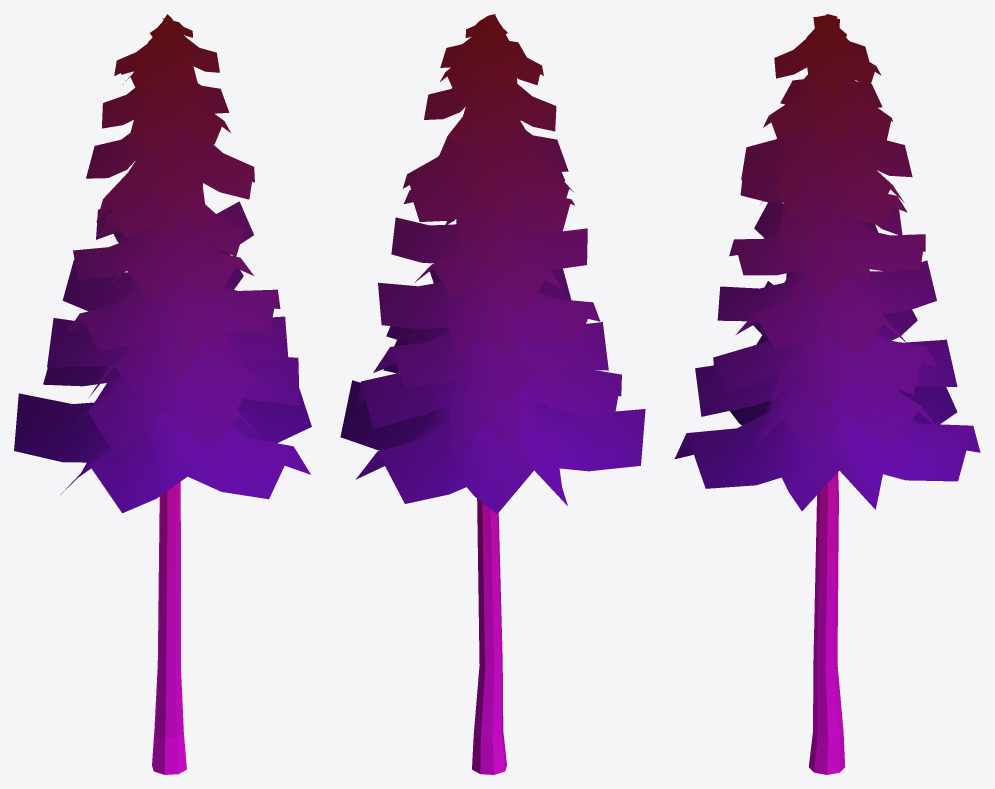
Rendered from synty-tree-pine-large-02.gltf.
3 renders of one model, left to right at view 1: azimuth 30°, elevation 25°; view 2: azimuth 150°, elevation 25°; view 3: azimuth 270°, elevation 25°, orthographic.
Visible parts, largest first — view 1: SM_Tree_Pine_Large_02; view 2: SM_Tree_Pine_Large_02; view 3: SM_Tree_Pine_Large_02.
Boxes of the visible parts, <box> form: SM_Tree_Pine_Large_02: <box>14,14,311,774</box>; SM_Tree_Pine_Large_02: <box>340,14,645,774</box>; SM_Tree_Pine_Large_02: <box>674,14,980,774</box>.
Bounding box in the file's own units: 3.14 × 8.59 × 3.17.
